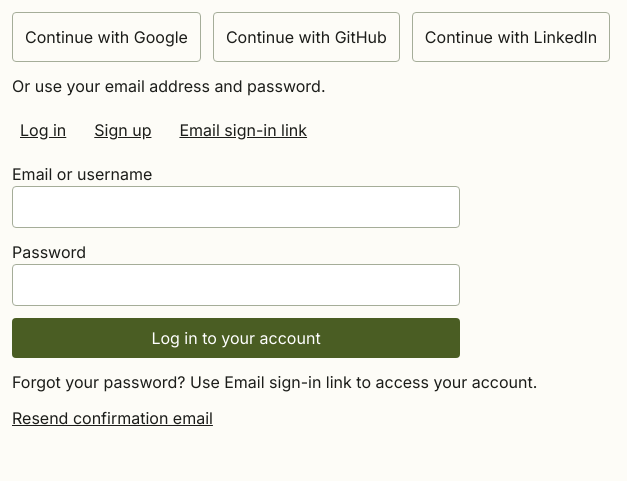
Scenario: account interface › logs in with a password, never implicitly creates a user, and clears the password
Type "test@example.com" into the field labelled "Email or username" at (236, 207), box [12,186,460,228]
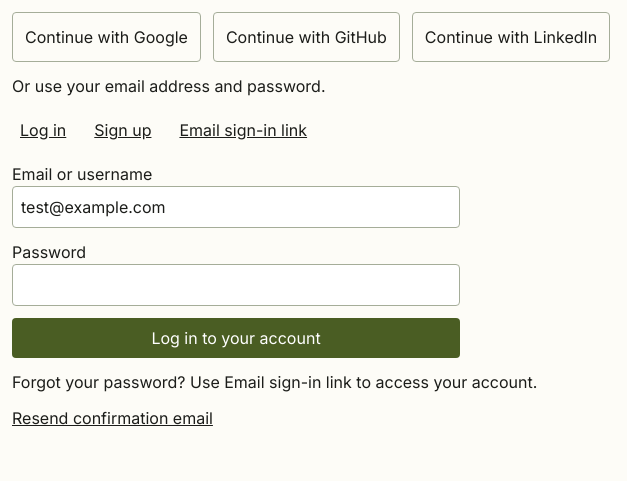
Type "test-only-password" into the password field labelled "Password" at (236, 285), box [12,264,460,306]
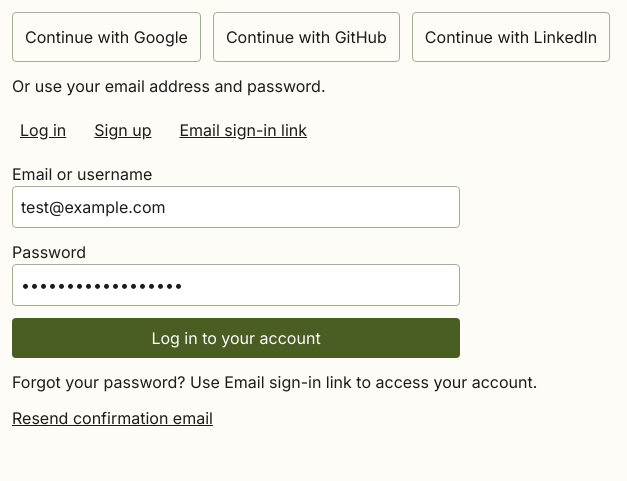
Click the button "Log in to your account" at (236, 338), box [12,318,460,358]
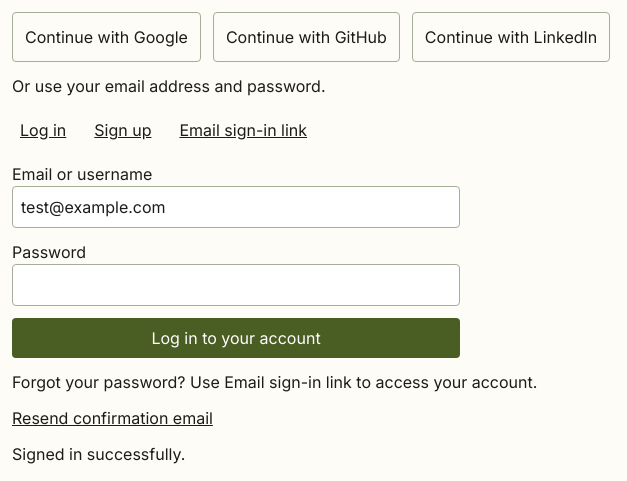
Expected: the text "Signed in successfully." is shown, [12,444,185,464]
Expected: the password field labelled "Password" is empty, [12,264,460,306]
